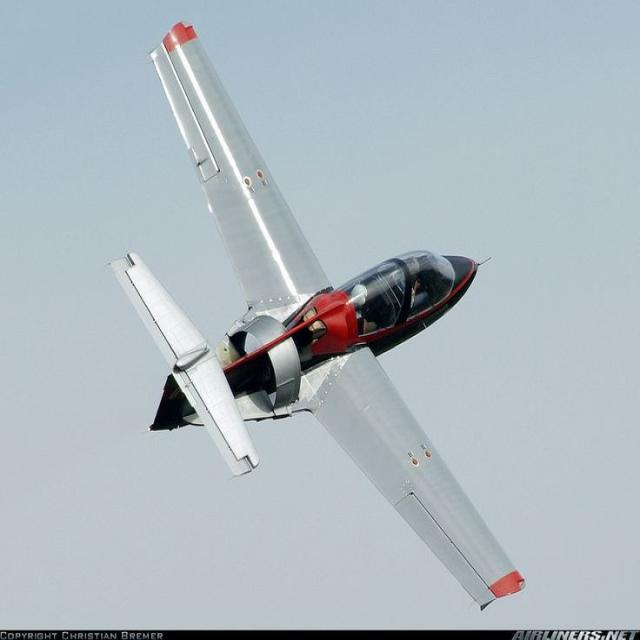iha: (106, 30, 528, 610)
